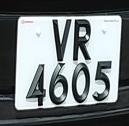0: (68, 62, 93, 106)
4: (24, 62, 49, 109)
5: (91, 58, 114, 107)
6: (47, 62, 70, 109)
R: (71, 13, 93, 65)
V: (47, 16, 73, 65)
